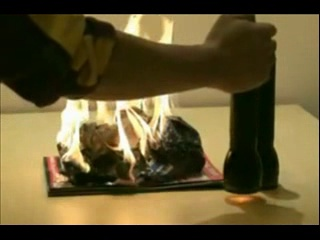fire: (94, 97, 138, 181), (58, 94, 90, 173), (138, 89, 174, 159), (122, 13, 173, 45)
